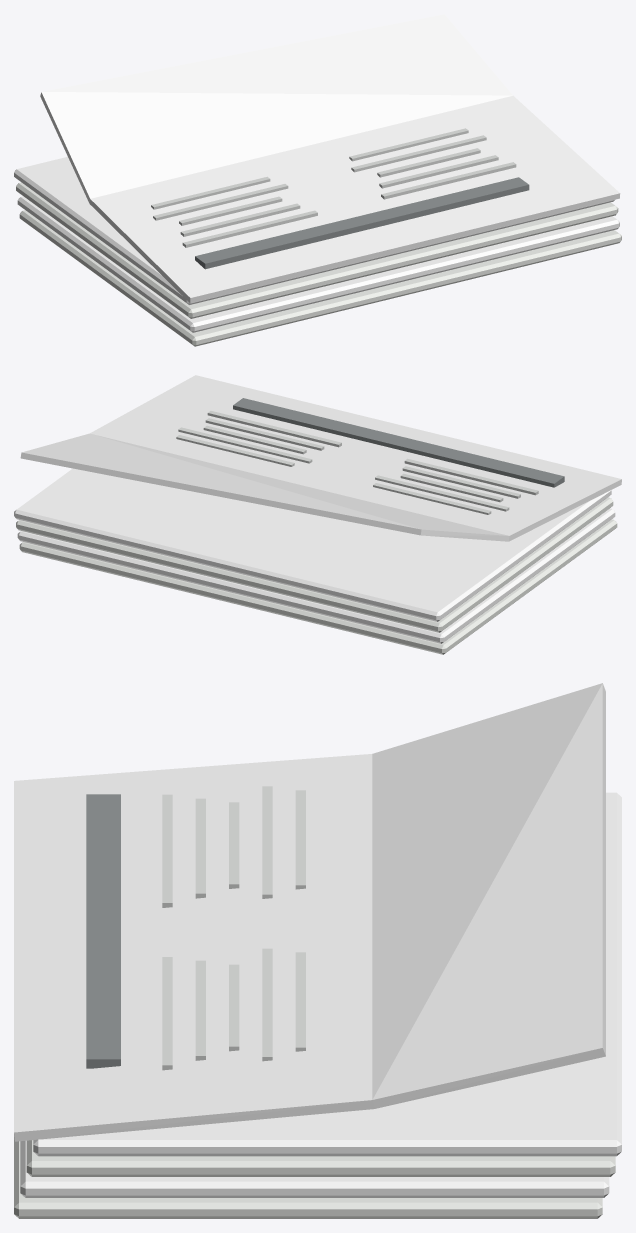
Rendered from Paper_FoldedNewspaper.fbx.
The picture shows the model from 3 angles, top to bottom: view 1: azimuth 30°, elevation 25°; view 2: azimuth 150°, elevation 25°; view 3: azimuth 270°, elevation 25°; orthographic projection. The views are drawn at different scales.
Visible parts, largest first — view 1: Paper_FoldedNewspaper; view 2: Paper_FoldedNewspaper; view 3: Paper_FoldedNewspaper.
Part boxes in pixels (x1,y1,x2,y2): Paper_FoldedNewspaper: [14, 14, 621, 346]; Paper_FoldedNewspaper: [14, 375, 621, 654]; Paper_FoldedNewspaper: [14, 683, 621, 1218].
Size of the model in its own units: 90 by 24.32 by 65.27.
